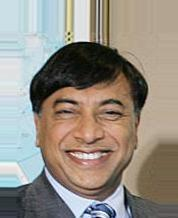face: (53, 98, 123, 166)
